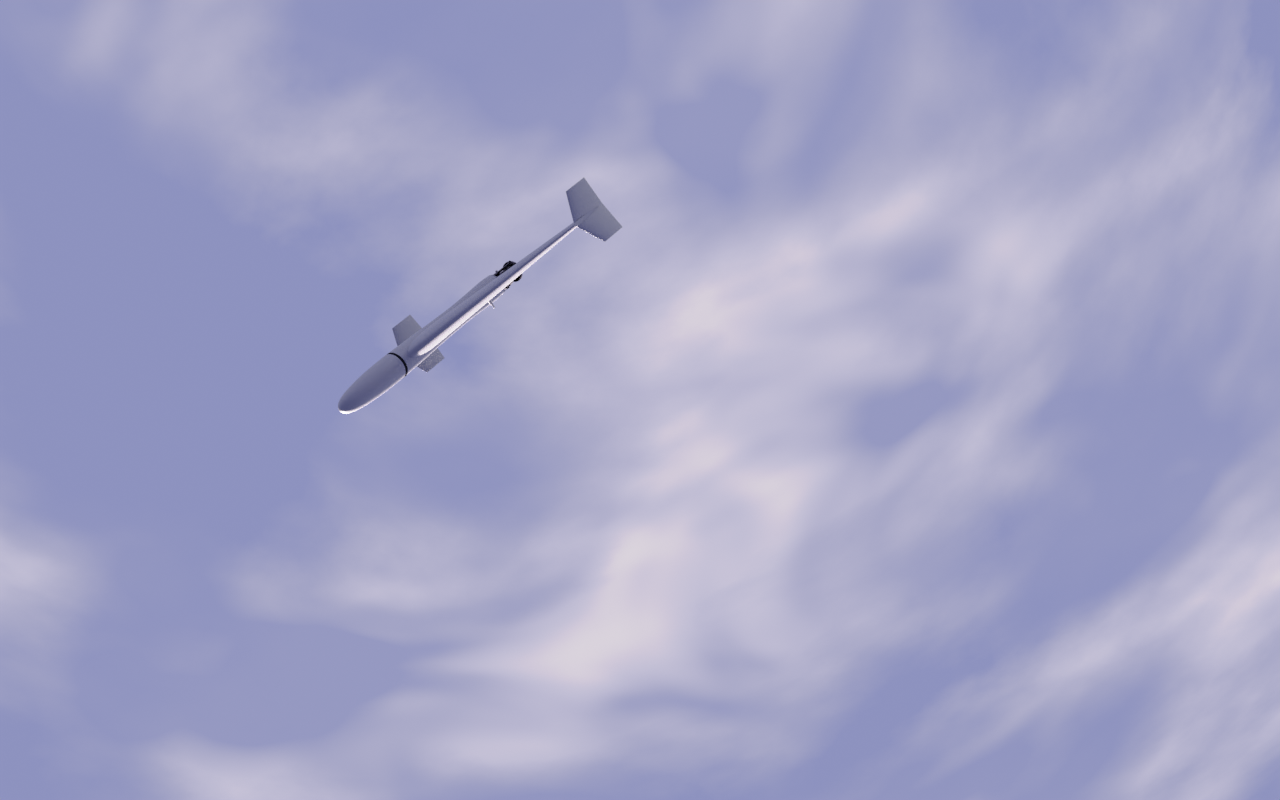shahed: (338, 177, 624, 416)
